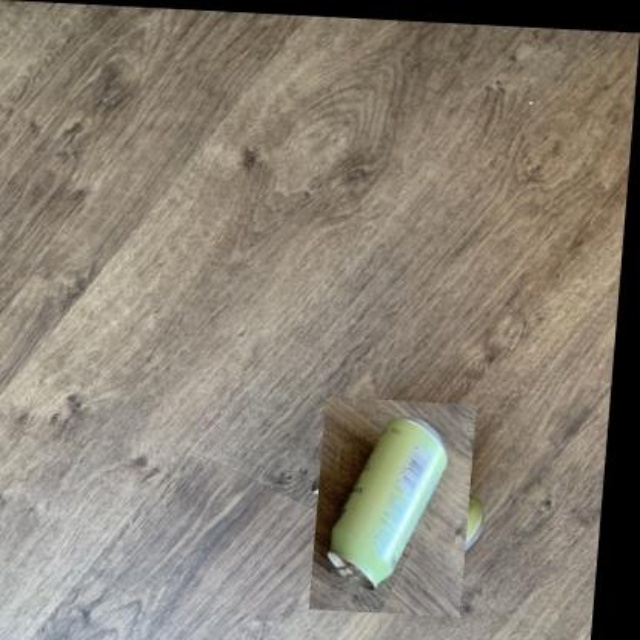trash: (328, 418, 446, 586)
